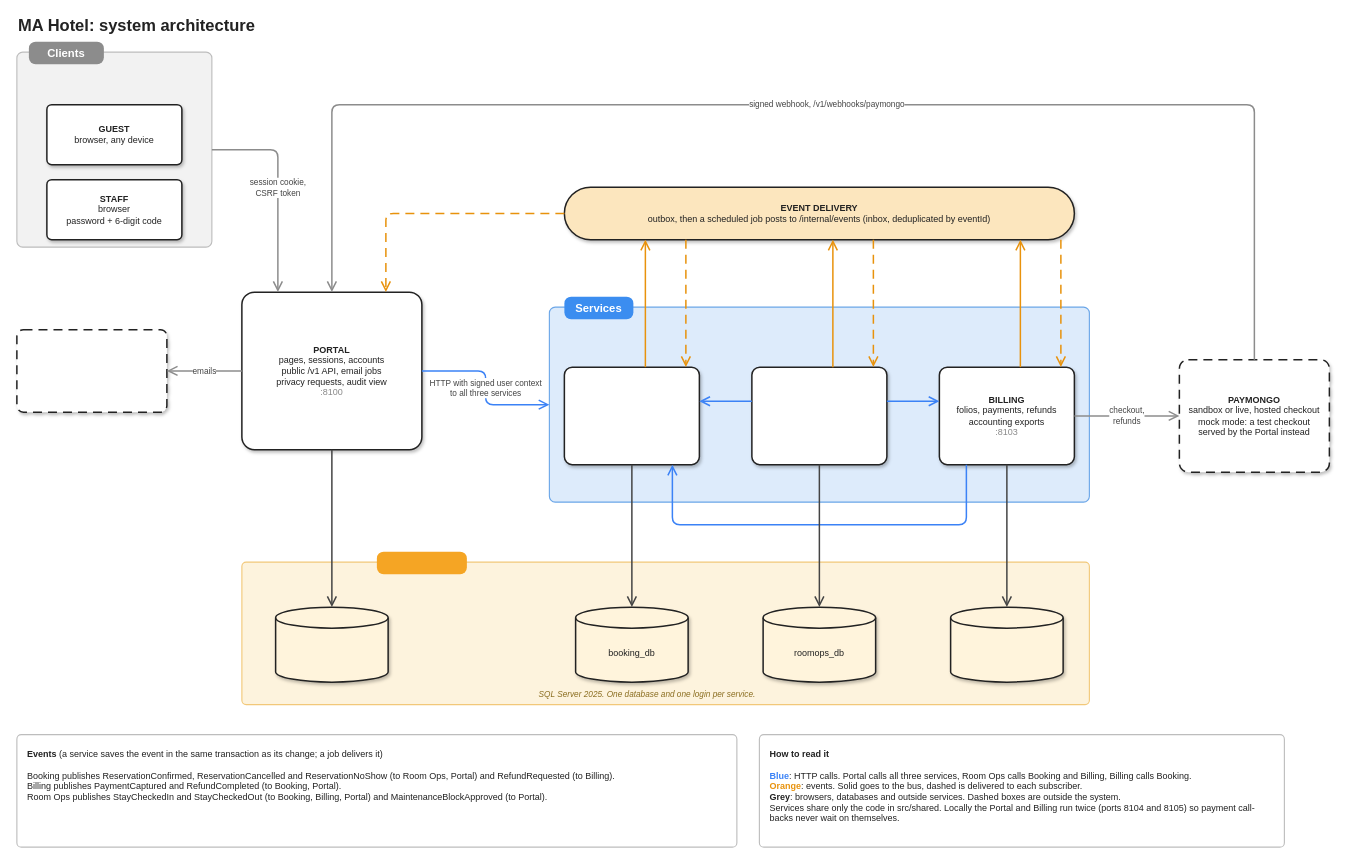
Image size: 1347x860. Some labels were removed from this diagram. Each missing label, with the centre of its shape:
"billing_db" goes at (x=1007, y=645).
"BOOKING guests, stock, reservations OTA allotments :8101" goes at (x=632, y=416).
"Databases" goes at (x=421, y=562).
"portal_db" goes at (x=332, y=645).
"RESEND transactional email no key set: saved in email_log" goes at (x=92, y=372).
"ROOM OPERATIONS rooms, stays, cleaning maintenance :8102" goes at (x=820, y=416).
